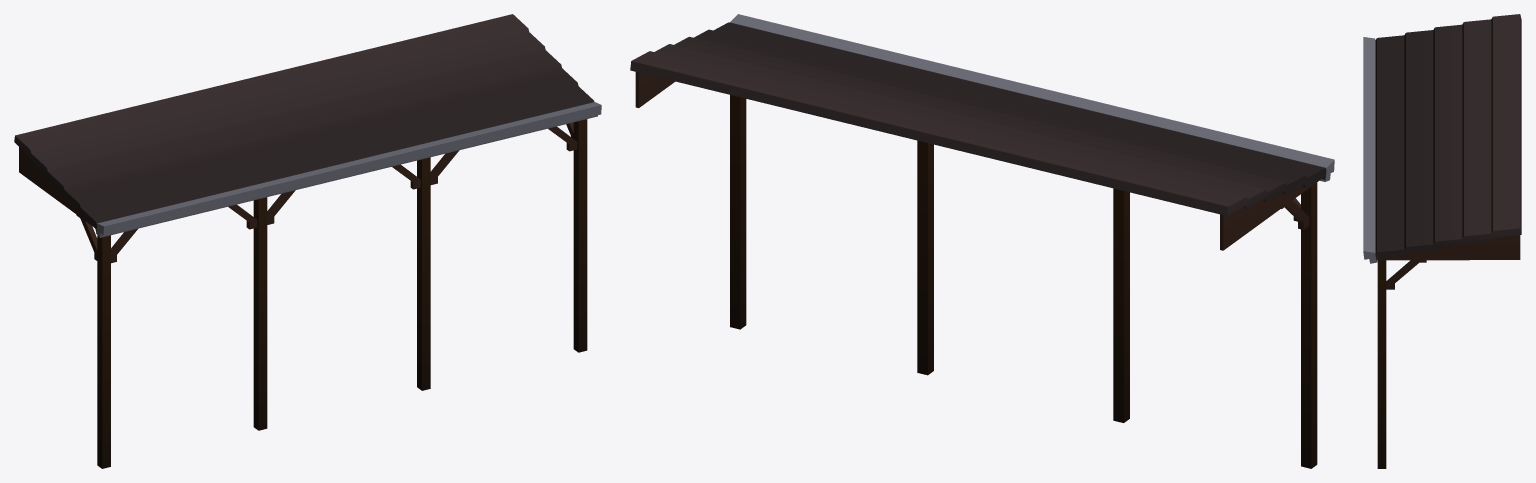
Rendered from Awning 7M.glb.
3 renders of one model, left to right at view 1: azimuth 30°, elevation 25°; view 2: azimuth 150°, elevation 25°; view 3: azimuth 270°, elevation 25°, orthographic. The views are drawn at different scales.
Visible parts, largest first — view 1: awning 7M; view 2: awning 7M; view 3: awning 7M.
Boxes of the visible parts, x1,y1,x2,y2 form: awning 7M: [14, 14, 601, 468]; awning 7M: [630, 14, 1334, 468]; awning 7M: [1363, 14, 1521, 468].
Size of what is drawn, in the model's own units: 7 by 3.71 by 2.19.
1 material, 1 textured.
